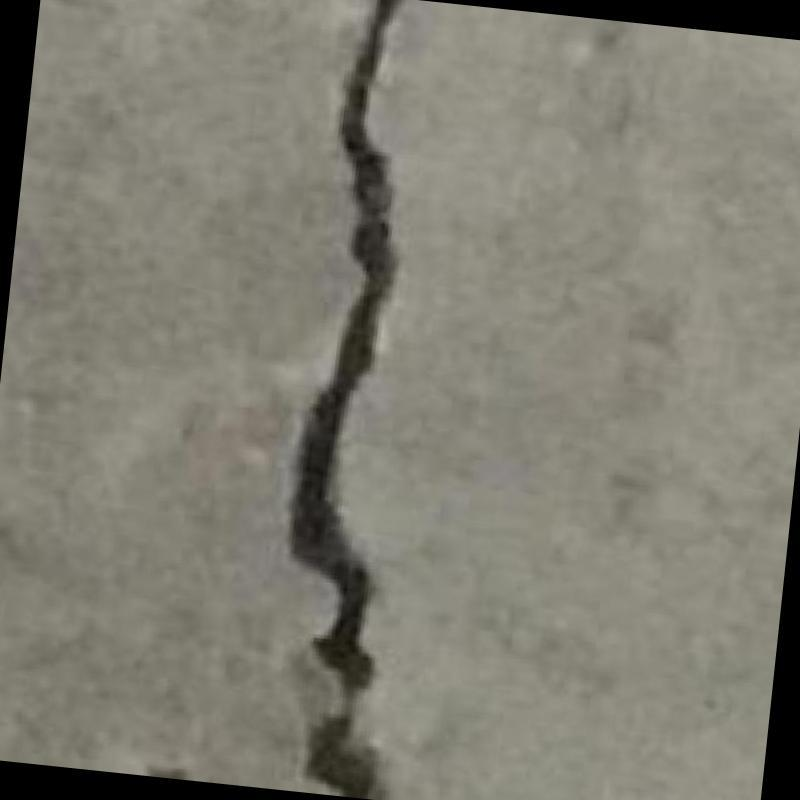crack: (290, 0, 400, 799)
